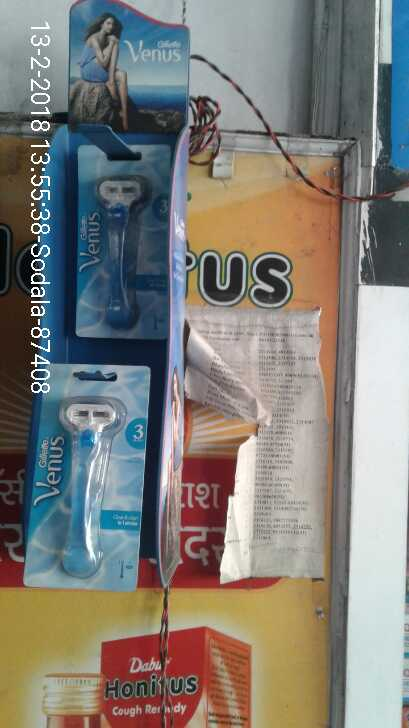venus: (20, 362, 144, 592), (69, 141, 181, 351)
